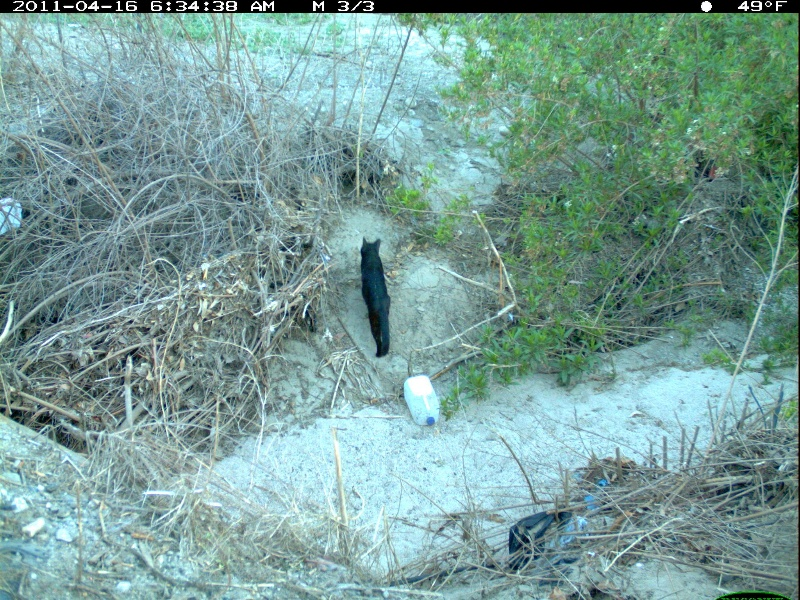cat: (357, 234, 396, 360)
